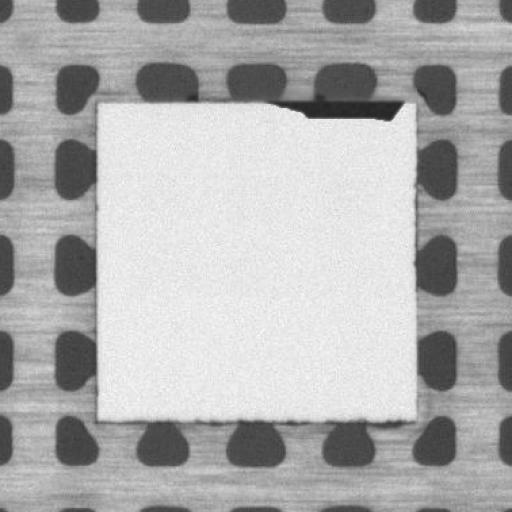DIE_BROKEN: (263, 96, 406, 124)
